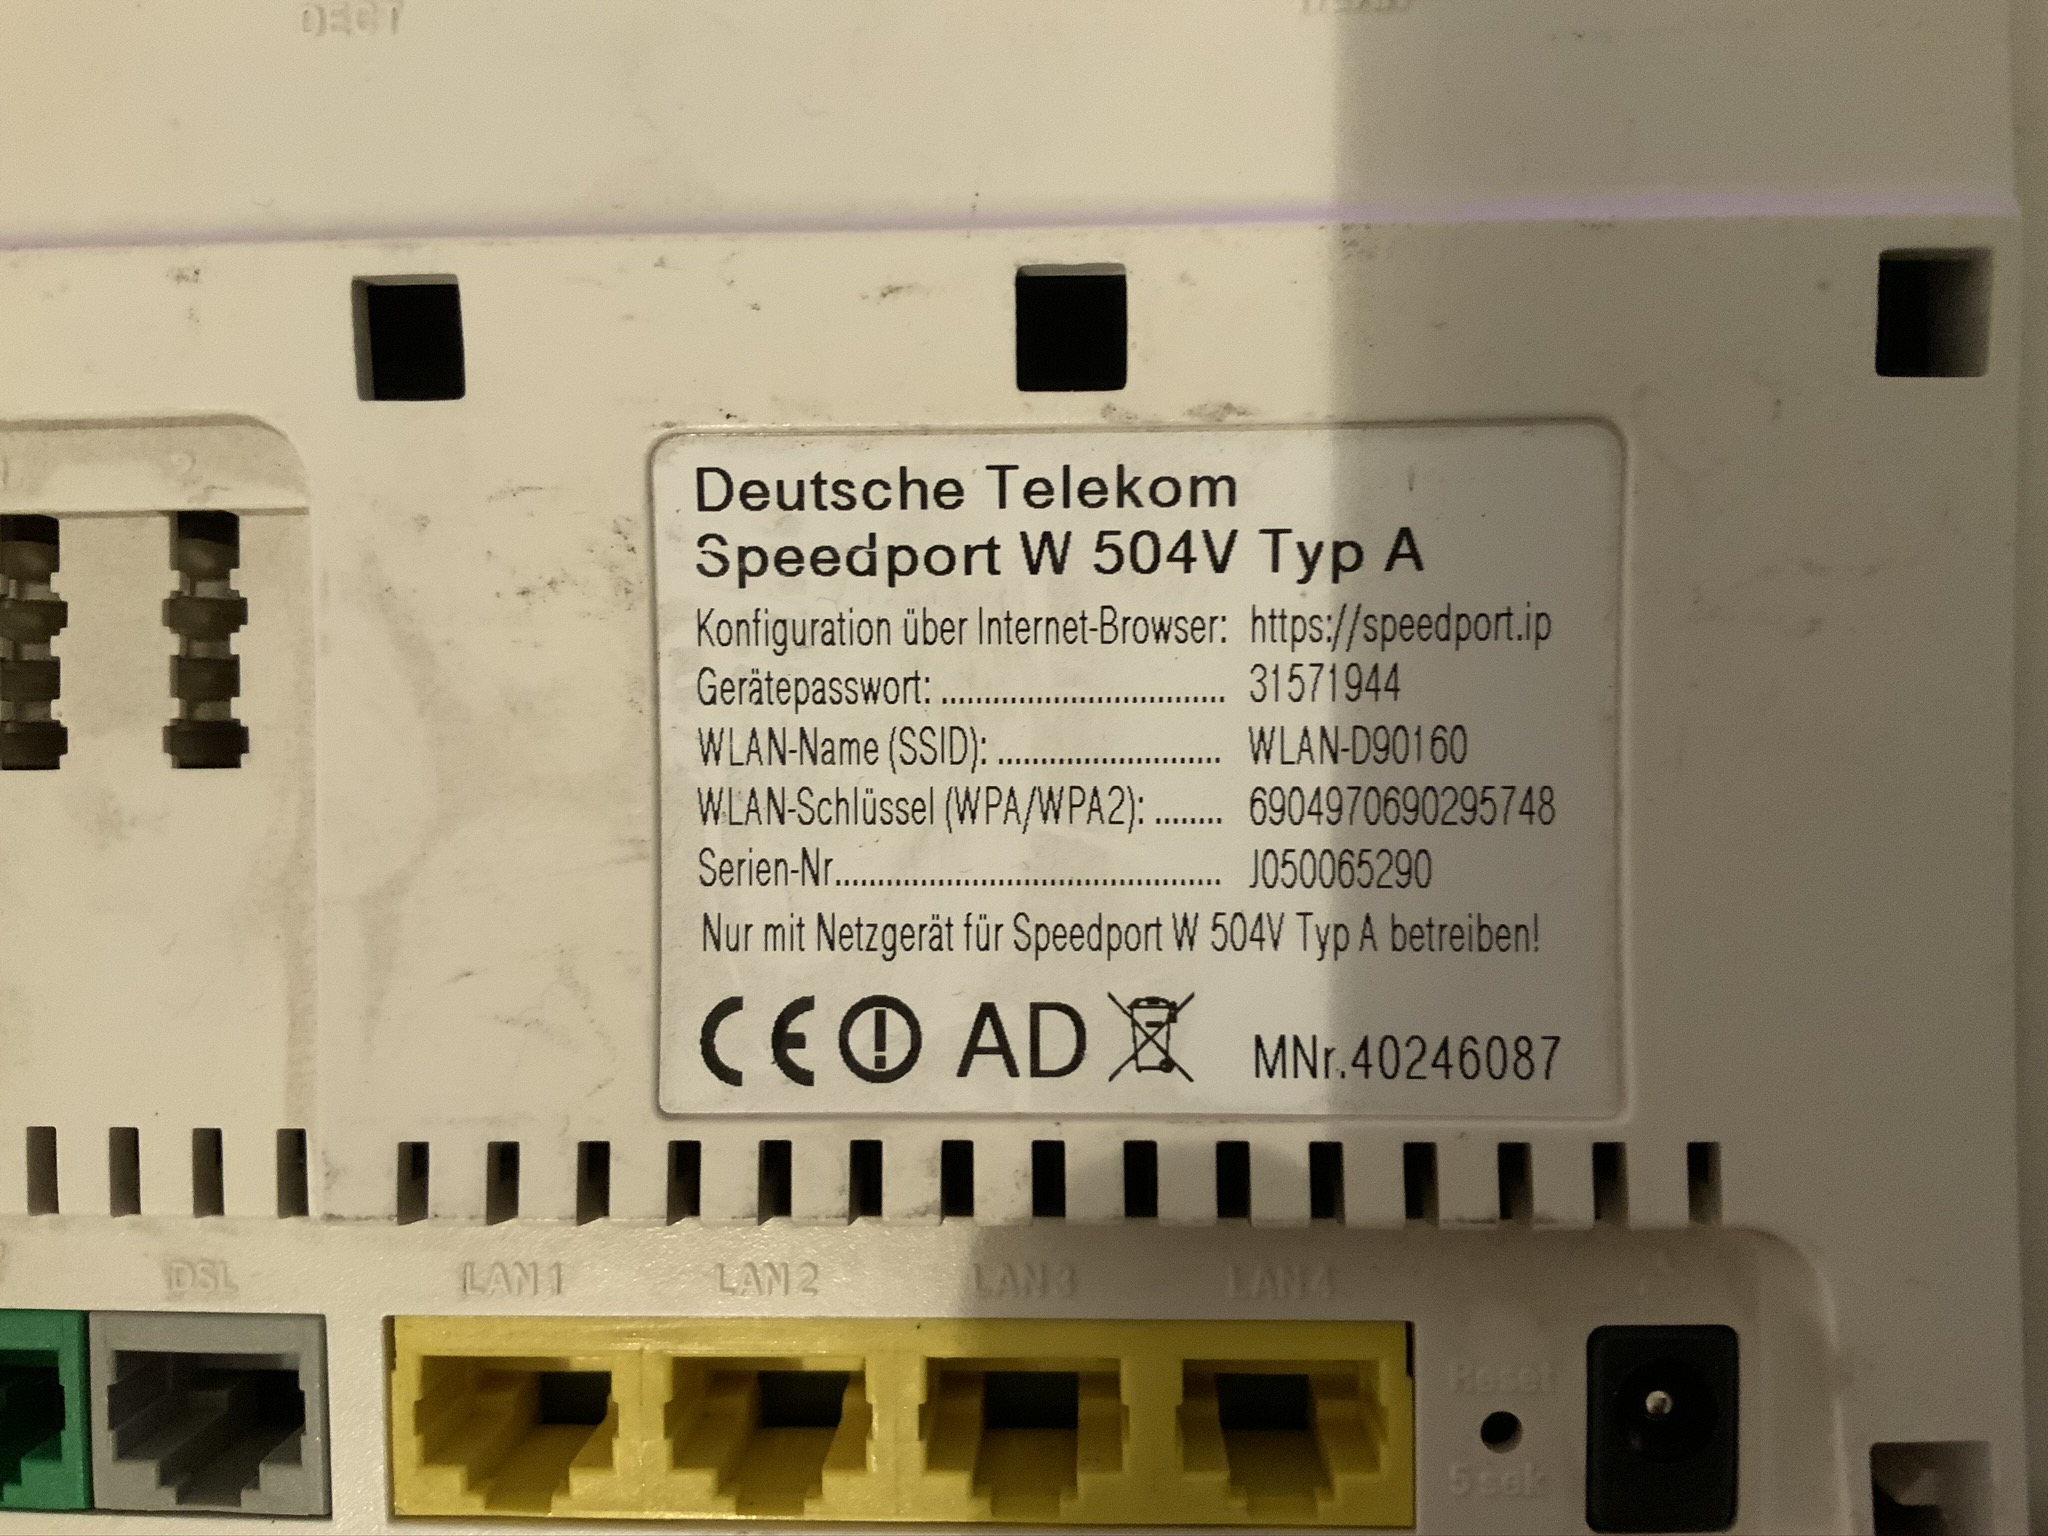Router2: (6, 2, 2048, 1534)
